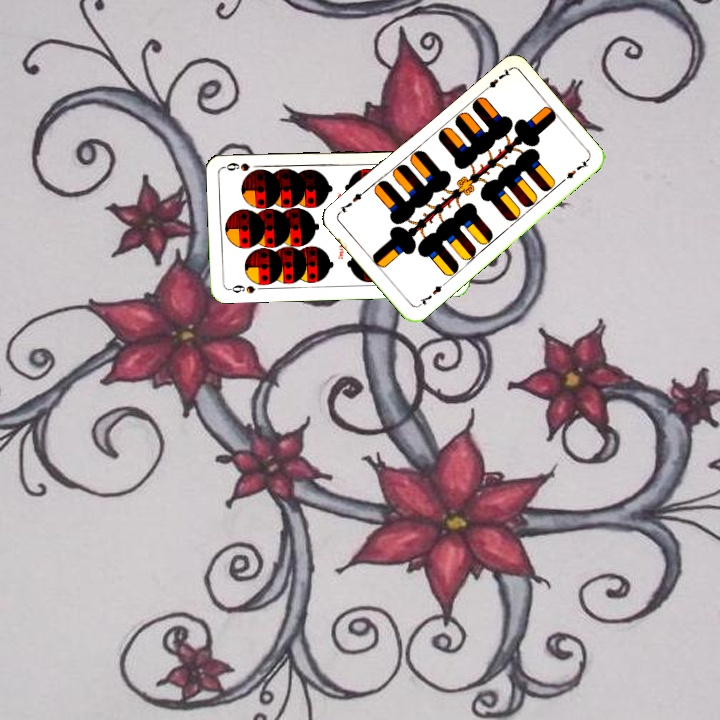E7: (479, 65, 513, 95), (414, 279, 447, 309)
S9: (224, 281, 258, 296)
